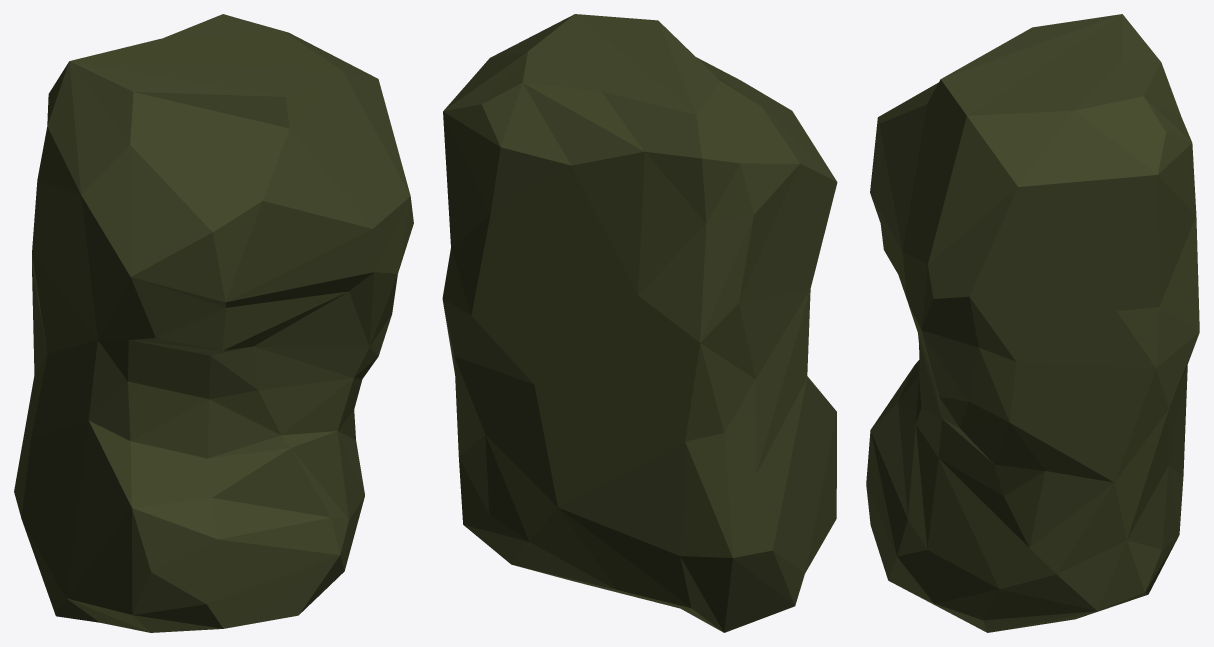
File: SM_small_rock_15.fbx
3 renders of one model, left to right at view 1: azimuth 30°, elevation 25°; view 2: azimuth 150°, elevation 25°; view 3: azimuth 270°, elevation 25°, orthographic. The views are drawn at different scales.
Parts seen in each view (by area): view 1: small_rock_15; view 2: small_rock_15; view 3: small_rock_15.
Boxes of the visible parts, x1,y1,x2,y2 form: small_rock_15: [14, 14, 413, 632]; small_rock_15: [442, 14, 837, 632]; small_rock_15: [866, 14, 1199, 632].
Bounding box in the file's own units: 12.08 × 18.46 × 10.44.
